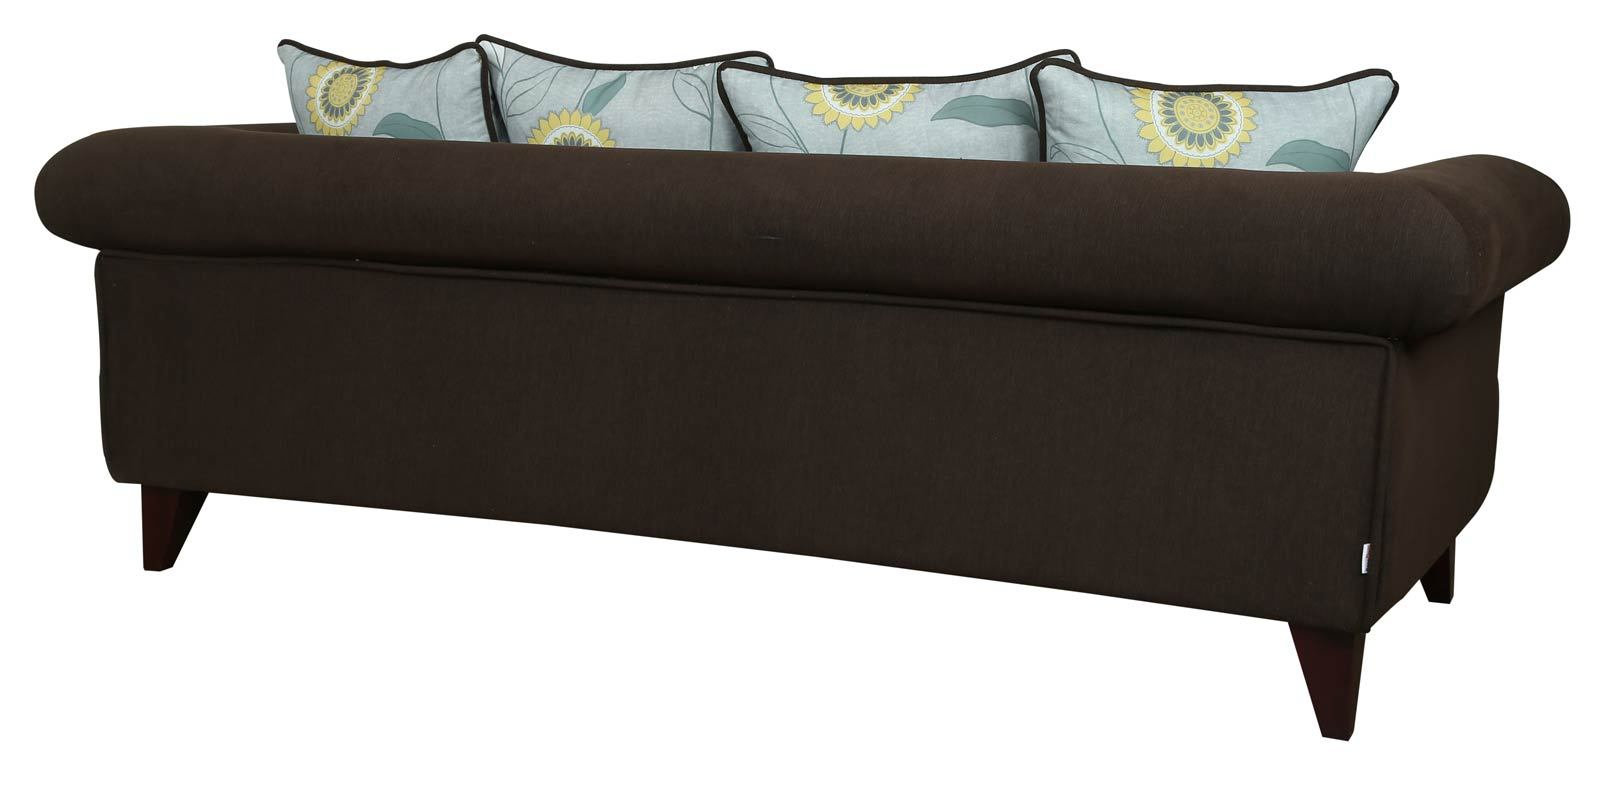Cielo Three Seater Sofa in Chestnut Brown Colour by CasaCraft: (48, 30, 1563, 652)
